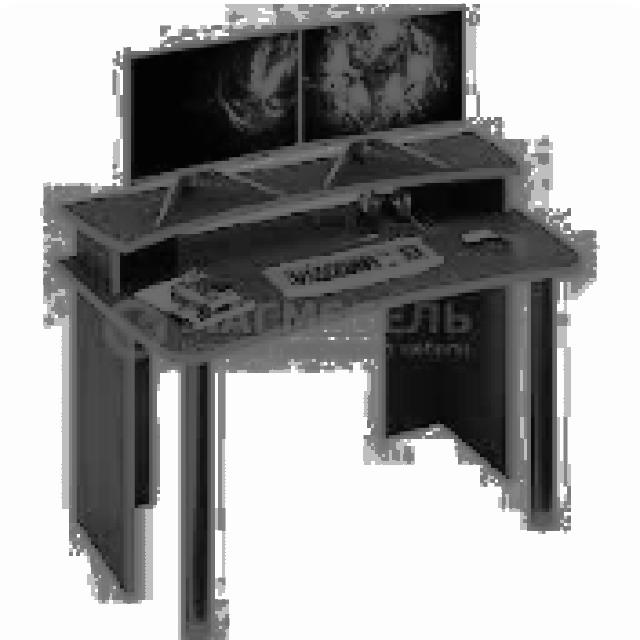table: (51, 124, 582, 636)
